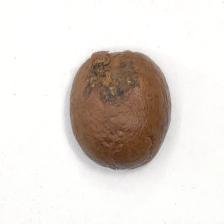NG: (84, 48, 144, 108)
